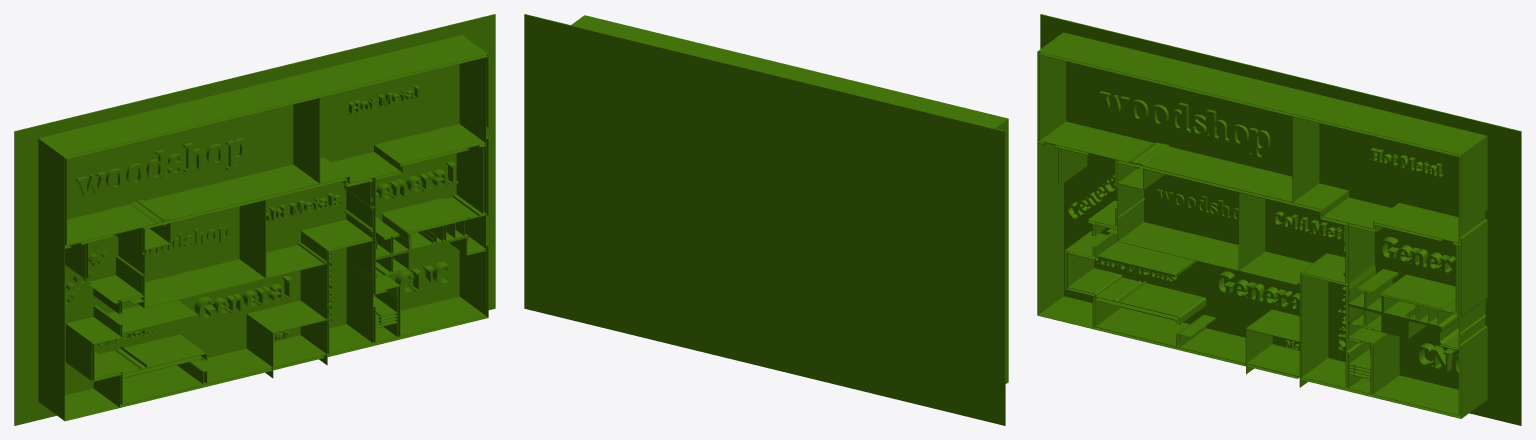
Rendered from FBX Export Floorplan greenfbx.fbx.
The picture shows the model from 3 angles, left to right: view 1: azimuth 30°, elevation 25°; view 2: azimuth 150°, elevation 25°; view 3: azimuth 330°, elevation 25°; orthographic projection.
Parts seen in each view (by area): view 1: polySurface1; view 2: polySurface1; view 3: polySurface1.
Boxes of the visible parts, x1,y1,x2,y2 form: polySurface1: (14, 14, 495, 425); polySurface1: (524, 14, 1008, 425); polySurface1: (1037, 14, 1521, 425).
Size of the model in its own units: 402 by 235 by 39.02.
